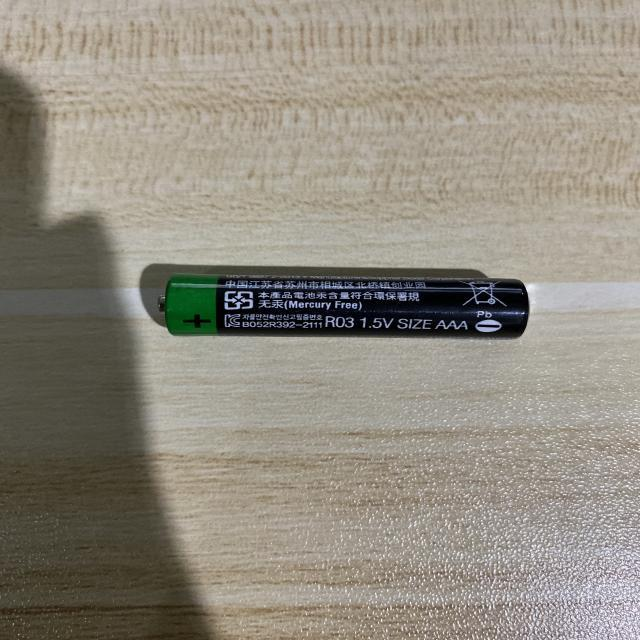hazardous waste: (158, 276, 532, 338)
